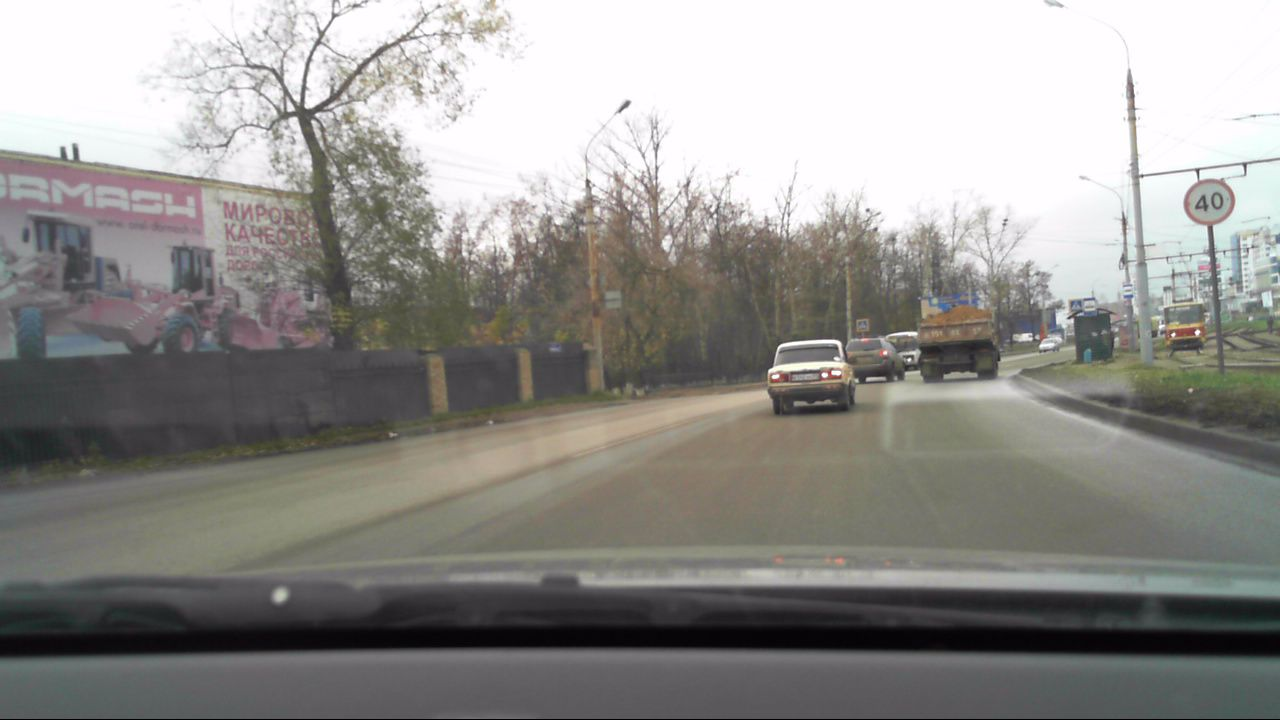speed_warning_40: (1182, 178, 1235, 226)
